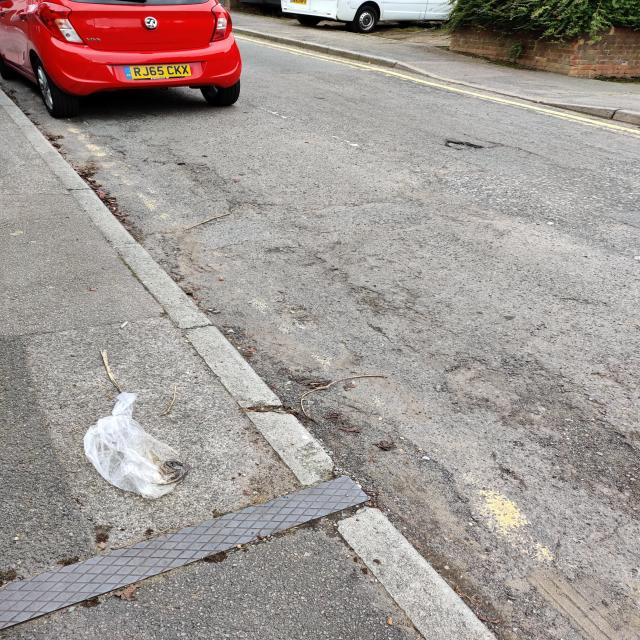litter: (94, 398, 175, 496)
